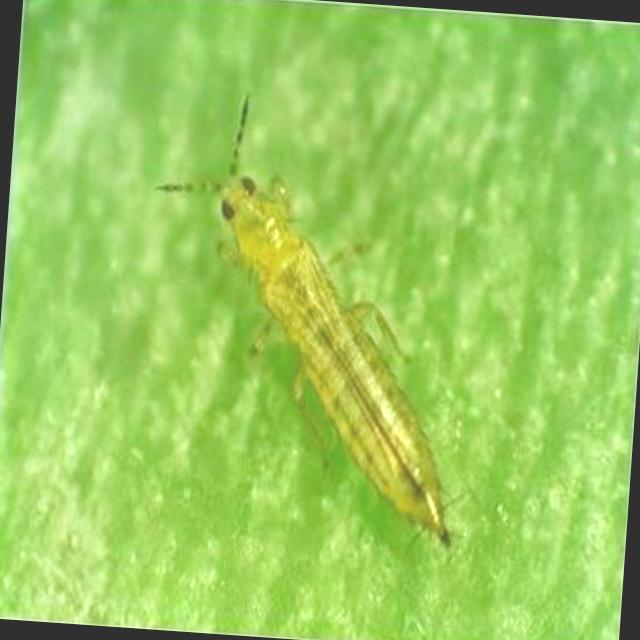melon thrips: (107, 38, 569, 578)
